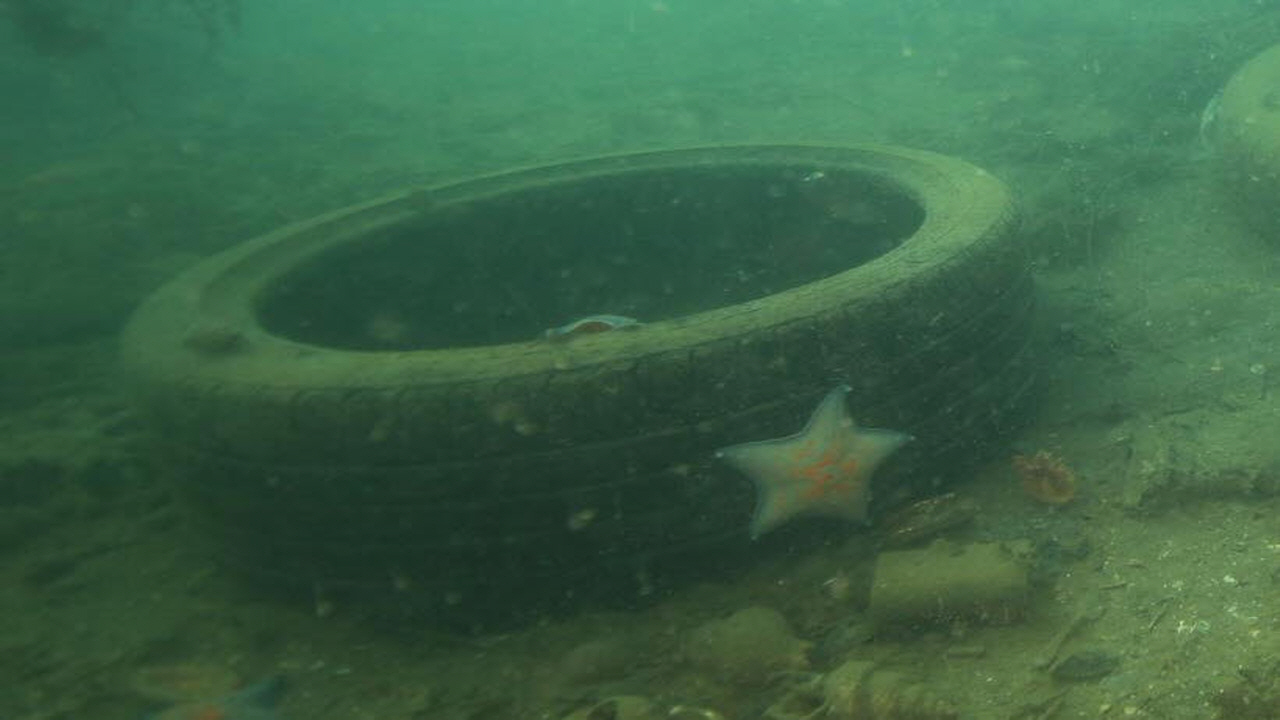tire: (125, 136, 1043, 631)
